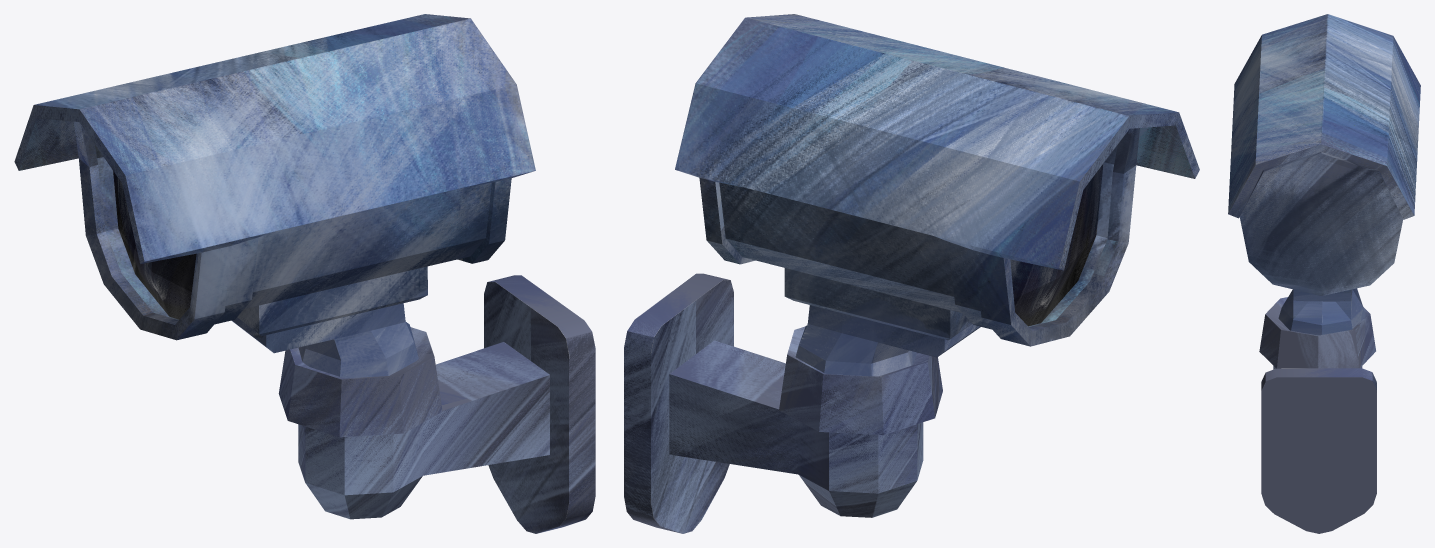
Rendered from Kamera.fbx.
3 views of the same model, side by side, from view 1: azimuth 30°, elevation 25°; view 2: azimuth 150°, elevation 25°; view 3: azimuth 270°, elevation 25° (orthographic). The views are drawn at different scales.
Parts seen in each view (by area): view 1: Kamera_vrsek, Kamera_spodek; view 2: Kamera_vrsek, Kamera_spodek; view 3: Kamera_vrsek, Kamera_spodek.
Boxes of the visible parts, x1,y1,x2,y2 form: Kamera_vrsek: [14, 14, 535, 378]; Kamera_spodek: [278, 275, 595, 533]; Kamera_vrsek: [675, 14, 1199, 376]; Kamera_spodek: [624, 273, 942, 533]; Kamera_vrsek: [1228, 14, 1420, 335]; Kamera_spodek: [1259, 297, 1376, 533].
Size of the model in its own units: 79.82 by 85.09 by 41.02.
